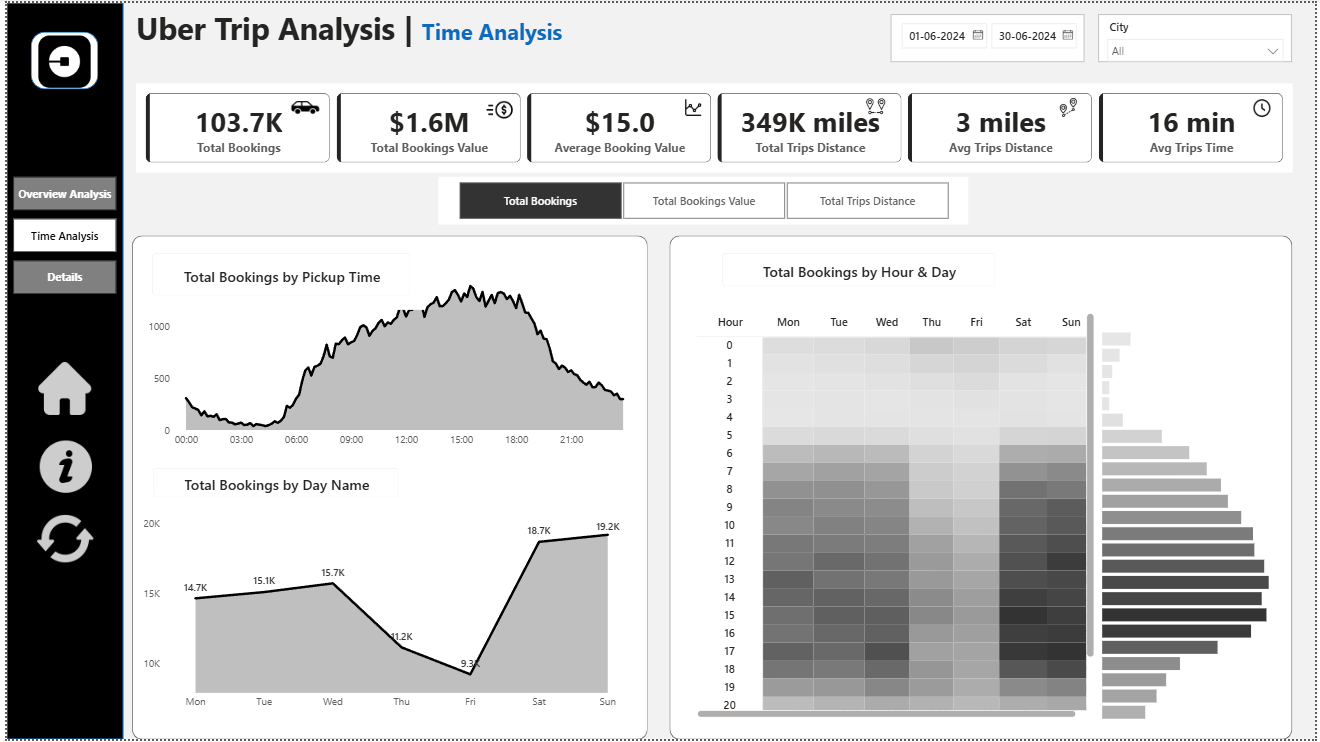

Layout of this report page (visuals, bound fields, positions):
{"tool":"powerbi","page":{"name":"Time Analysis","canvas":[1600,900],"ordinal":1},"visuals":[{"type":"shape","box":[0,0,142.2,900.3],"z":0},{"type":"textbox","box":[152.9,0,620.6,71.8],"z":1000},{"type":"cardVisual","fields":{"Data":["All Measures.Total Bookings","All Measures.Total Bookings Amount","All Measures.Average Booking Amount","All Measures.Total Trips Distance","All Measures.Avg Trips Distance","All Measures.Avg Trips Time"]},"box":[152.9,93.2,1426.1,119.2],"z":2000},{"type":"image","box":[580.8,114.6,42.8,32.1],"z":3000},{"type":"image","box":[1037.9,114.6,48.9,22.9],"z":4000},{"type":"image","box":[1279.4,116.2,38.2,22.9],"z":5000},{"type":"image","box":[1519.4,117.7,30.6,21.4],"z":6000},{"type":"image","box":[820.8,116.2,36.7,22.9],"z":7000},{"type":"image","box":[343.9,110.1,41.3,35.2],"z":8000},{"type":"shape","box":[152.9,283.8,630.7,616.5],"z":9000},{"type":"slicer","fields":{"Values":["Dynamic Measures.Dynamic Measures"]},"box":[527.3,212.5,648.1,58.1],"z":10000},{"type":"slicer","fields":{"Values":["Location Table.City"]},"box":[1334.4,13.8,236.9,58.1],"z":11000},{"type":"slicer","fields":{"Values":["Calendar table.Date"]},"box":[1080.7,13.8,236.9,58.1],"z":12000},{"type":"areaChart","fields":{"Y":["All Measures.Total Trip Distance Measure"],"Category":["Trip Details.Pickup Hour (HH MM SS) (bins)"]},"box":[168.7,331.1,605.4,220.7],"z":13000},{"type":"cardVisual","fields":{"Data":["Dynamic Measures.Title for by Pickup Time"]},"box":[160.8,288.5,350,86.7],"z":14000},{"type":"areaChart","fields":{"Y":["All Measures.Total Trip Distance Measure"],"Category":["Calendar table.Day Name"]},"box":[162,622.1,611.4,250.7],"z":15000},{"type":"cardVisual","fields":{"Data":["Dynamic Measures.Title for by Day Name"]},"box":[162.4,551.8,334.3,71],"z":16000},{"type":"shape","box":[810.4,283.8,761.5,616.5],"z":17000},{"type":"pivotTable","fields":{"Values":["All Measures.Total Trip Distance Measure"],"Rows":["Trip Details.Pickup Hour"],"Columns":["Calendar table.Day Name"]},"box":[838.8,375.2,495.1,504.5],"z":18000},{"type":"barChart","fields":{"Y":["All Measures.Total Trip Distance Measure"],"Category":["Trip Details.Pickup Hour"]},"box":[1333.9,389.4,216,510.8],"z":19000},{"type":"cardVisual","fields":{"Data":["Dynamic Measures.Title for by Hour & Day"]},"box":[857.7,288.5,368.9,75.7],"z":20000},{"type":"pageNavigator","box":[7.9,212.9,126.1,145.1],"z":21000},{"type":"shape","box":[29,35.2,82.5,70.3],"z":22000},{"type":"image","box":[18.3,39.7,103.9,64.2],"z":23000},{"type":"image","box":[38,432,65.1,77.7],"z":24000},{"type":"image","box":[35.2,535,73.4,64.2],"z":25000},{"type":"image","box":[33.6,620.6,74.9,68.8],"z":26000}]}

Visuals, with their boxes on the page's 1600x900 design canvas (x1, y1, x2, y2). These are canvas units, not pixel positions in the 1320x742 screenshot, which may show the page scaled, cropped or inside an application window:
shape: (0, 0, 142, 900)
textbox: (153, 0, 774, 72)
cardVisual - All Measures.Total Bookings x All Measures.Total Bookings Amount: (153, 93, 1579, 212)
image: (581, 115, 624, 147)
image: (1038, 115, 1087, 138)
image: (1279, 116, 1318, 139)
image: (1519, 118, 1550, 139)
image: (821, 116, 858, 139)
image: (344, 110, 385, 145)
shape: (153, 284, 784, 900)
slicer - Dynamic Measures.Dynamic Measures: (527, 212, 1175, 271)
slicer - Location Table.City: (1334, 14, 1571, 72)
slicer - Calendar table.Date: (1081, 14, 1318, 72)
areaChart - All Measures.Total Trip Distance Measure x Trip Details.Pickup Hour (HH MM SS) (bins): (169, 331, 774, 552)
cardVisual - Dynamic Measures.Title for by Pickup Time: (161, 288, 511, 375)
areaChart - All Measures.Total Trip Distance Measure x Calendar table.Day Name: (162, 622, 773, 873)
cardVisual - Dynamic Measures.Title for by Day Name: (162, 552, 497, 623)
shape: (810, 284, 1572, 900)
pivotTable - All Measures.Total Trip Distance Measure x Trip Details.Pickup Hour: (839, 375, 1334, 880)
barChart - All Measures.Total Trip Distance Measure x Trip Details.Pickup Hour: (1334, 389, 1550, 900)
cardVisual - Dynamic Measures.Title for by Hour & Day: (858, 288, 1227, 364)
pageNavigator: (8, 213, 134, 358)
shape: (29, 35, 112, 106)
image: (18, 40, 122, 104)
image: (38, 432, 103, 510)
image: (35, 535, 109, 599)
image: (34, 621, 108, 689)
